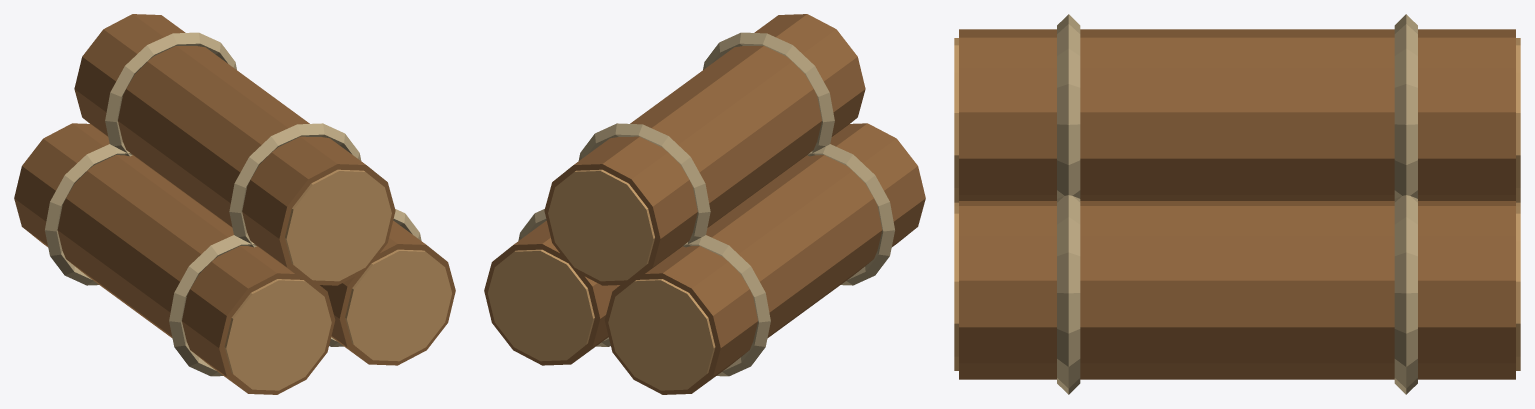
The model's file is cargo-timber.glb.
3 views of the same model, side by side, from view 1: azimuth 30°, elevation 25°; view 2: azimuth 150°, elevation 25°; view 3: azimuth 270°, elevation 25° (orthographic). The views are drawn at different scales.
Visible parts, largest first — view 1: cargo-timber; view 2: cargo-timber; view 3: cargo-timber.
Part boxes in pixels (box(x1,y1,x2,y2)): cargo-timber: box(14, 14, 455, 394); cargo-timber: box(484, 14, 925, 394); cargo-timber: box(954, 14, 1520, 394).
Bounding box in the file's own units: 1.19 × 1.05 × 1.68.
